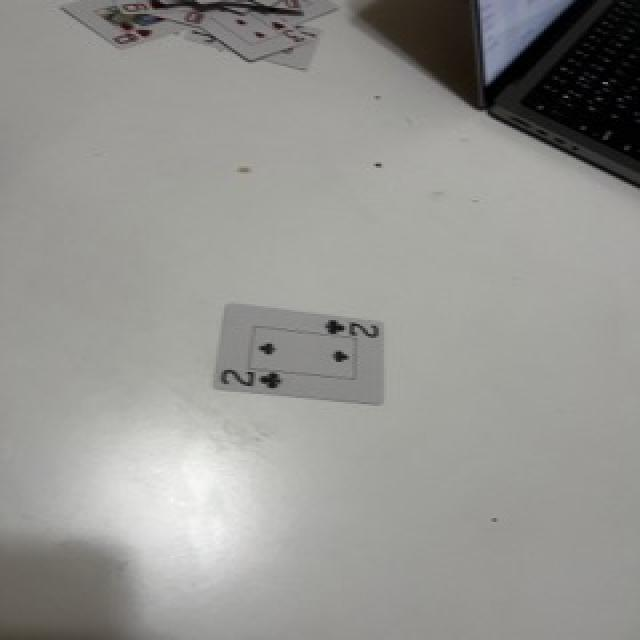2 of clubs: (213, 304, 383, 404)
